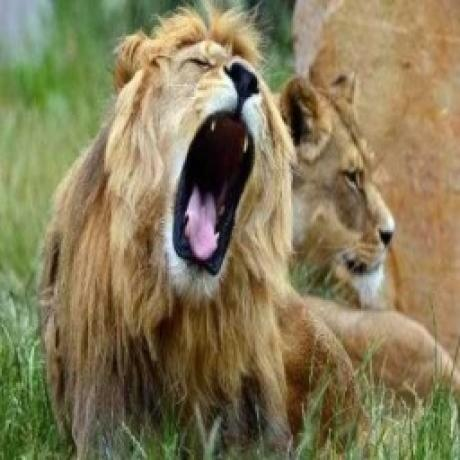Lion: (33, 3, 460, 444), (284, 73, 399, 295)
